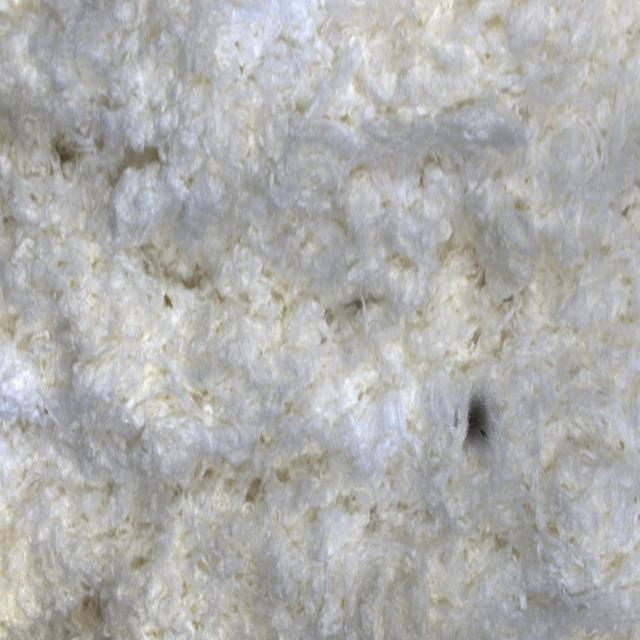dust: (438, 366, 524, 472)
